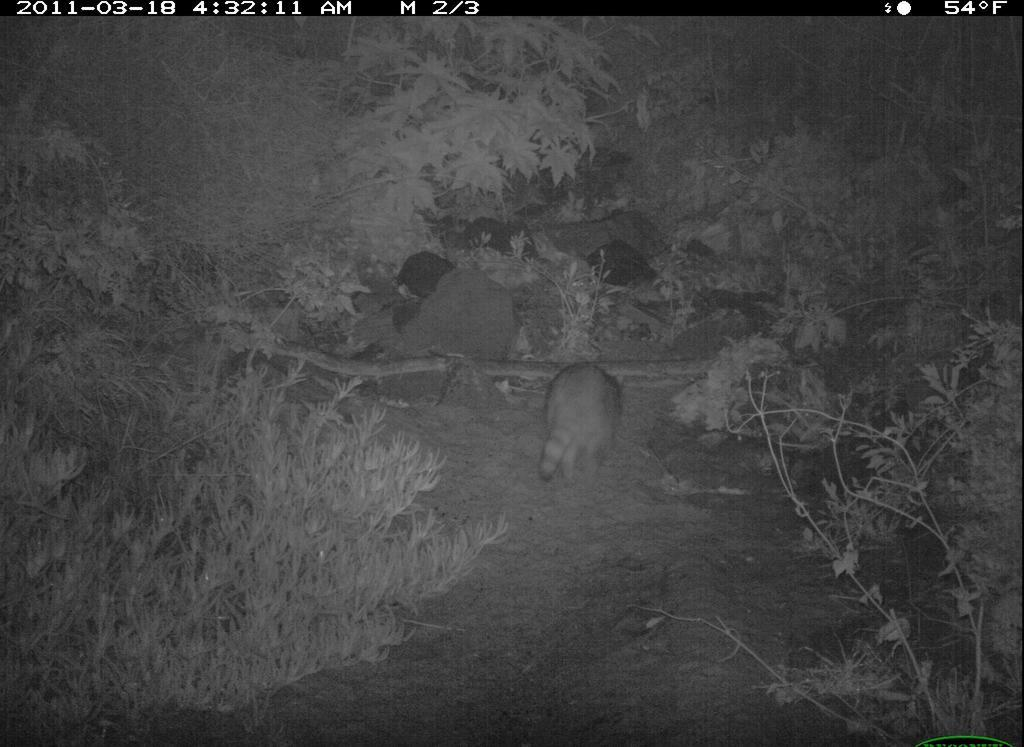raccoon: (527, 353, 643, 496)
